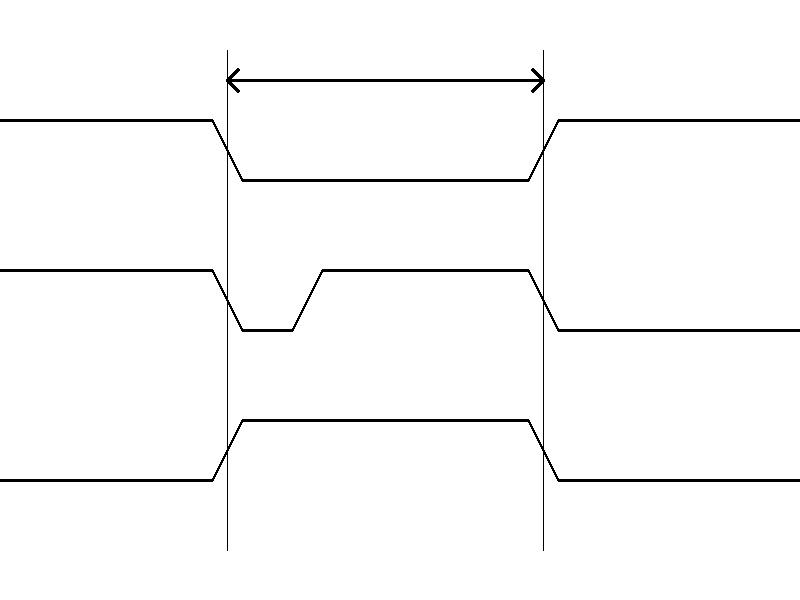double_arrow: (227, 65, 543, 95)
